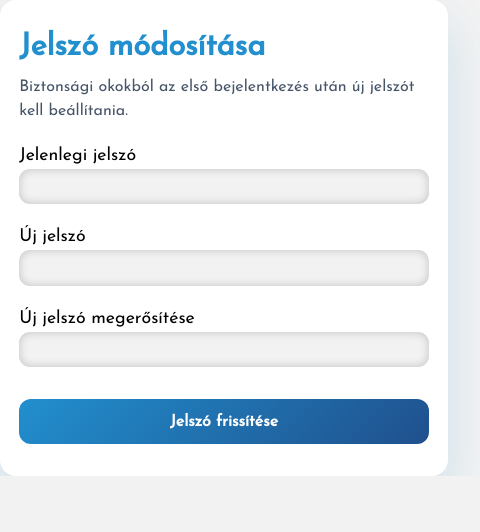
Test: ChangePasswordModal › should show error if new password is too short
Type "old-password" into the password field labelled "Jelenlegi jelszó" at (224, 187), box [19,169,429,204]
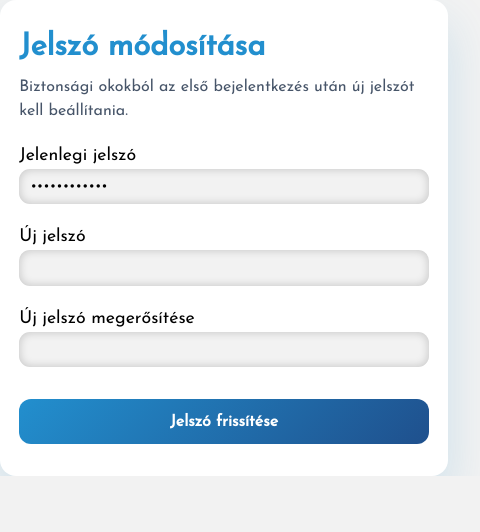
Type "short" into the password field labelled "Új jelszó" at (224, 268), box [19,250,429,286]
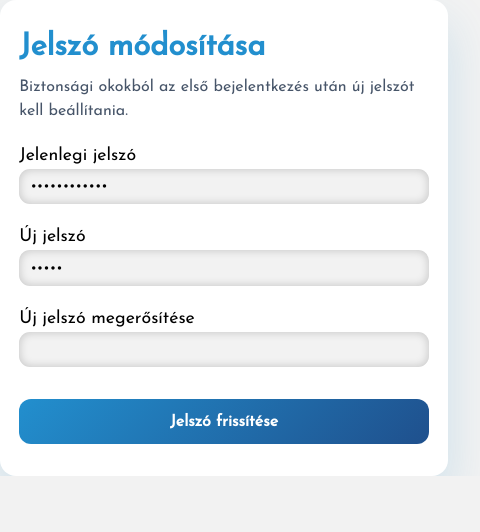
Type "short" into the password field labelled "Új jelszó megerősítése" at (224, 350), box [19,332,429,367]
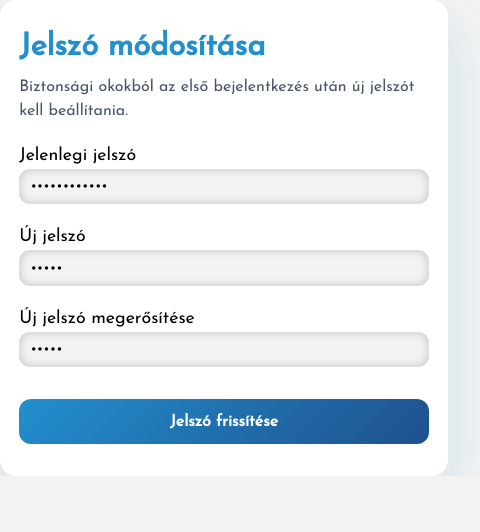
Click the button "Jelszó frissítése" at (224, 422), box [19,399,429,444]
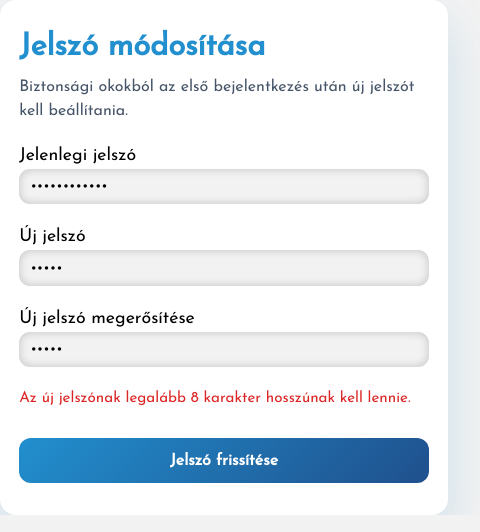
Now the text "Az új jelszónak legalább 8 karakter hosszúnak kell lennie." is shown, box [19,391,429,406]
